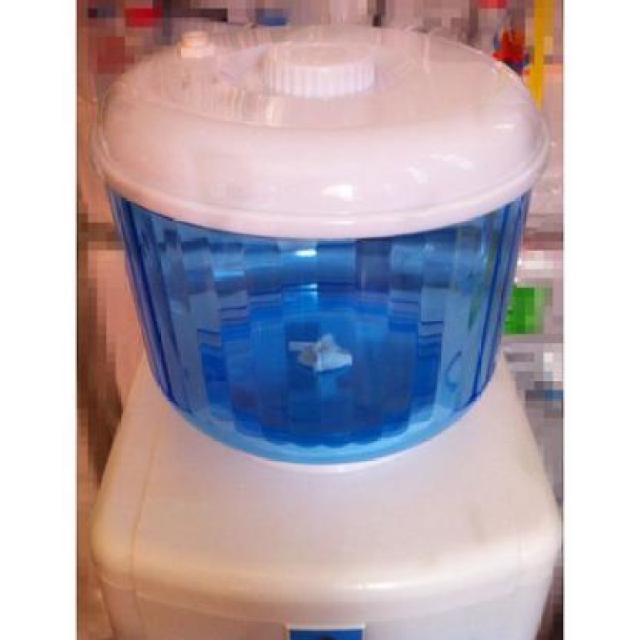coolerbottle: (89, 20, 558, 471)
